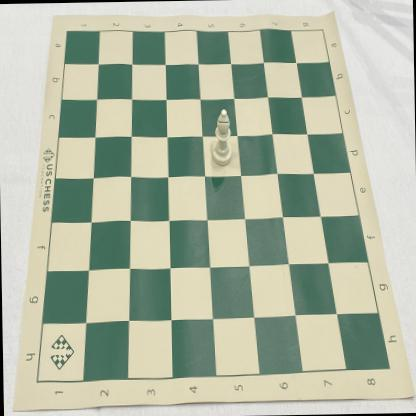bishop: (210, 108, 233, 167)
